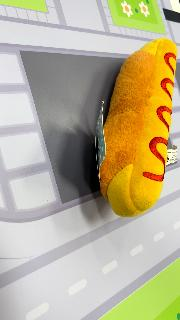hotdog: (96, 38, 178, 218)
